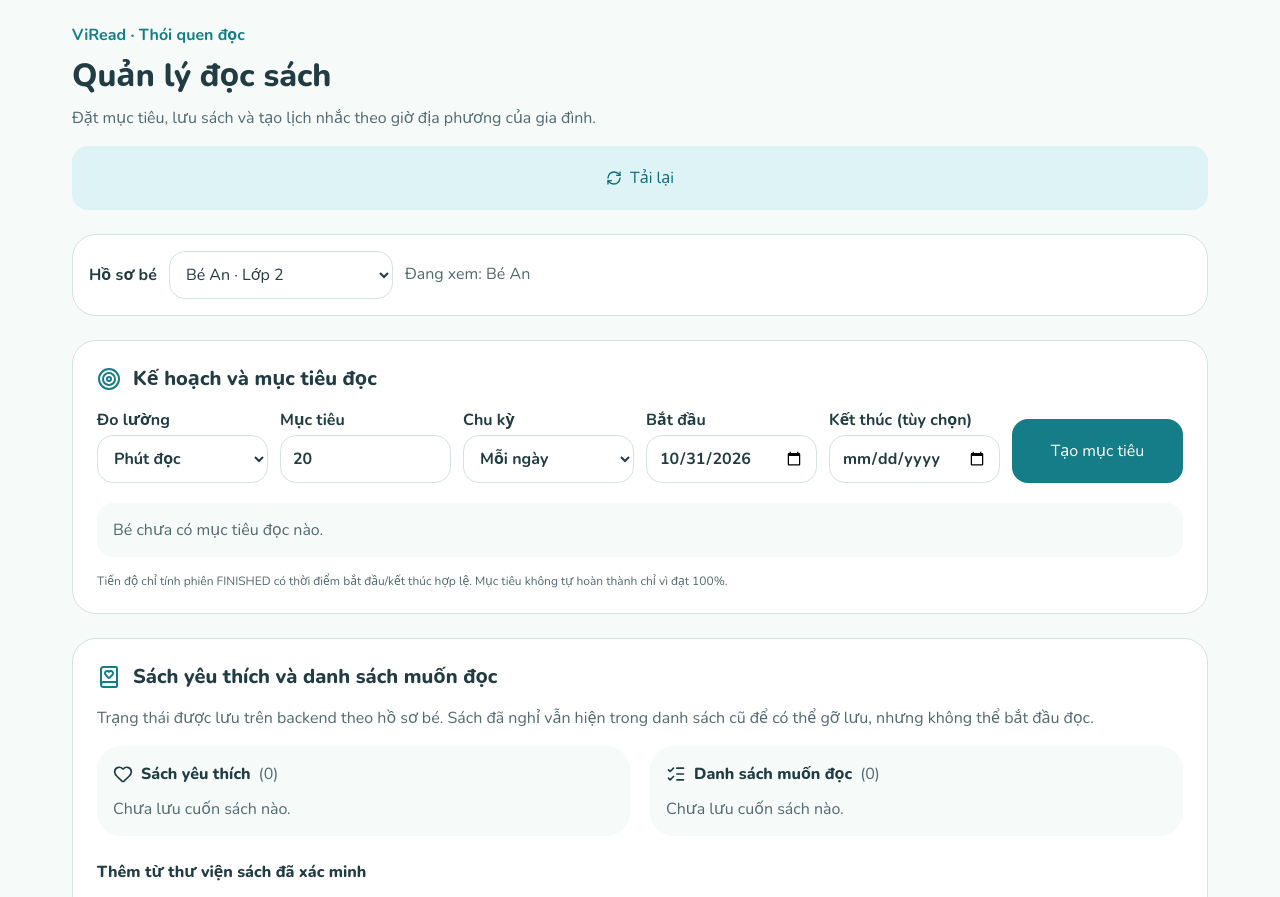
Test case: ReadingManagementScreen backed by HTTP API adapter › does not show success when the backend rejects goal creation
Expected: the heading "Kế hoạch và mục tiêu đọc" is shown, [133,365,377,393]
Click the button "Tạo mục tiêu". click: x=1098, y=451
box: [1012,419,1183,483]
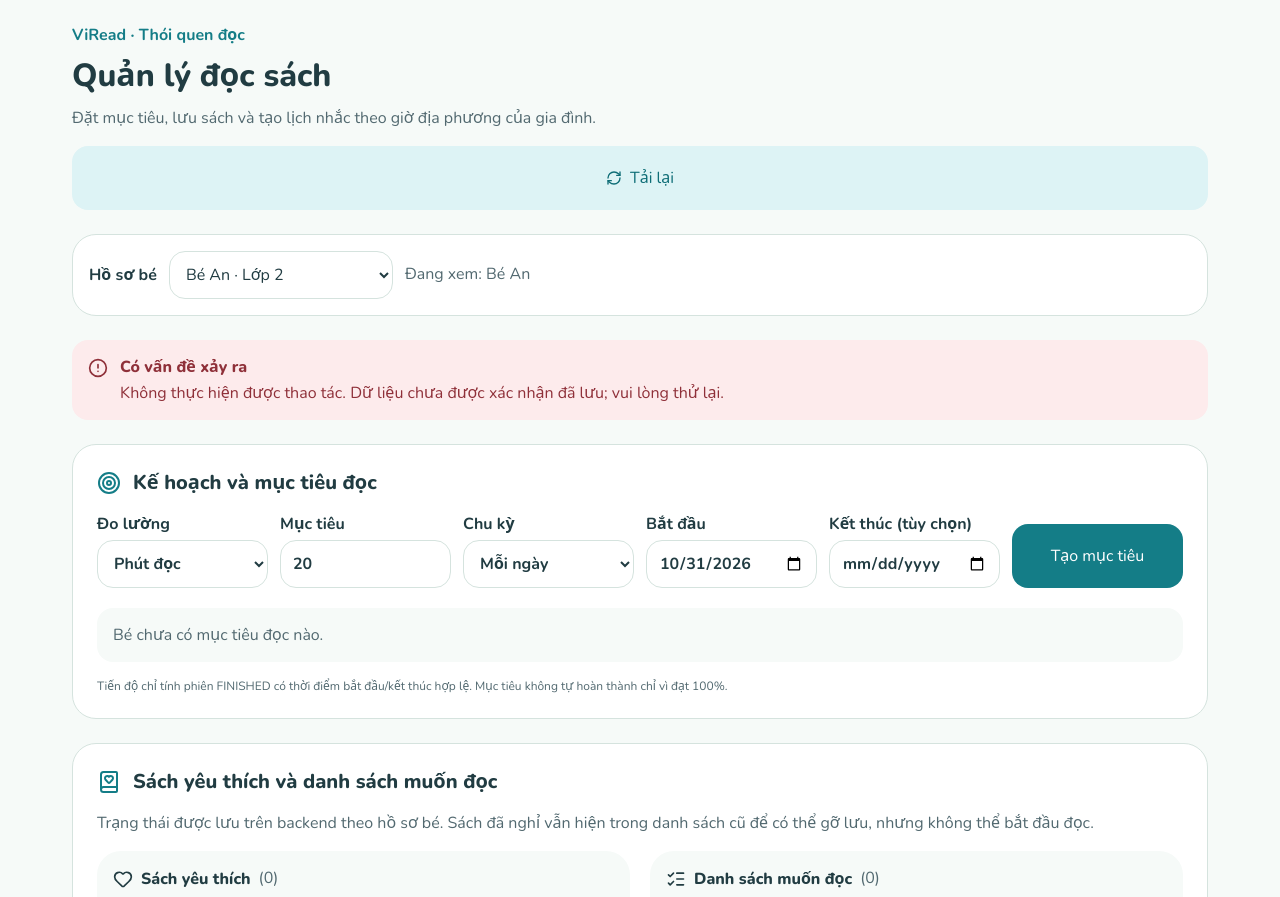
Expected: the text "Không thực hiện được thao tác" is shown, [120,382,724,404]
